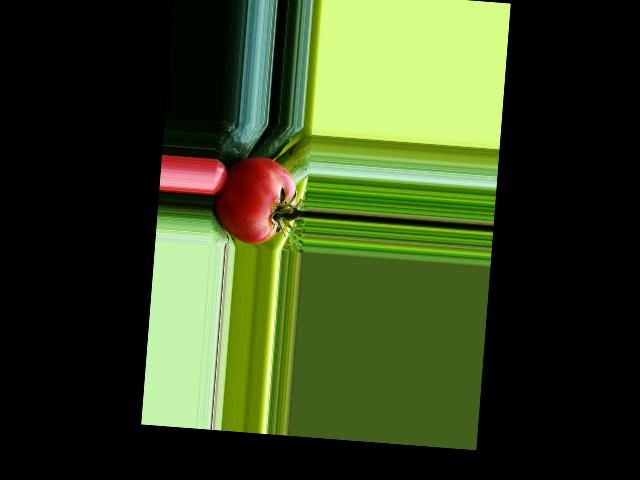tomato: (210, 154, 298, 247)
